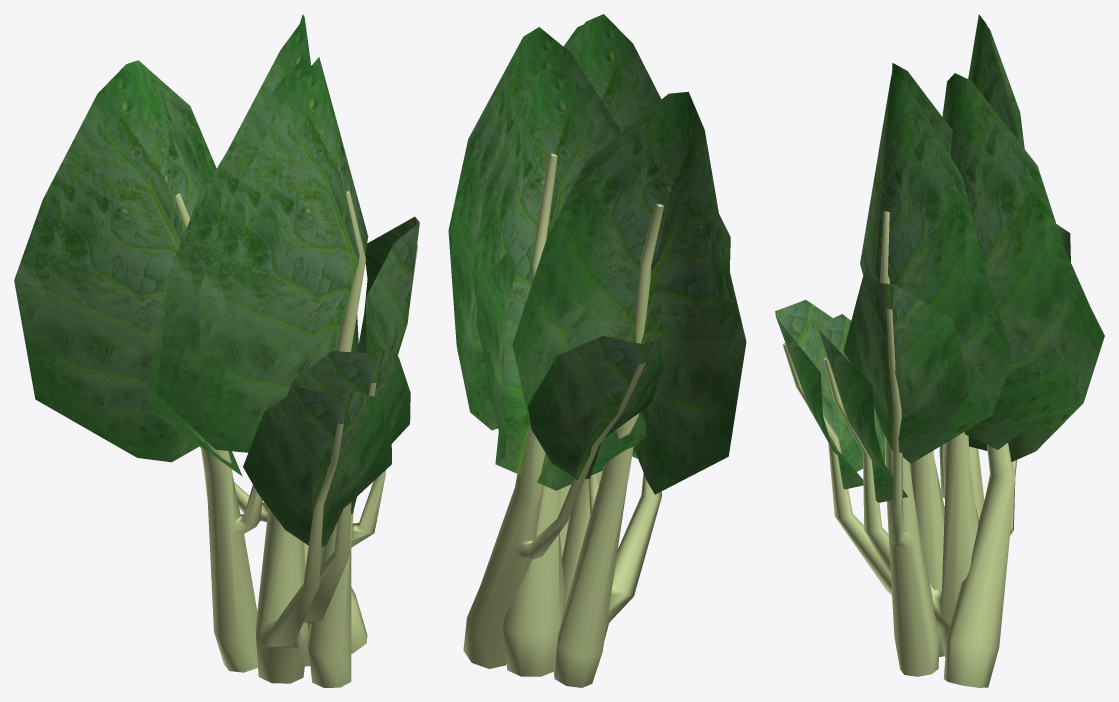
File: Kale.fbx
3 views of the same model, side by side, from view 1: azimuth 30°, elevation 25°; view 2: azimuth 150°, elevation 25°; view 3: azimuth 270°, elevation 25° (orthographic). The views are drawn at different scales.
Visible parts, largest first — view 1: polySurface3; view 2: polySurface3; view 3: polySurface3.
Boxes of the visible parts, <box> form: polySurface3: <box>14,14,419,687</box>; polySurface3: <box>448,14,746,687</box>; polySurface3: <box>775,14,1104,687</box>.
Bounding box in the file's own units: 13.97 × 26.52 × 13.3.
2 materials, 1 textured.
